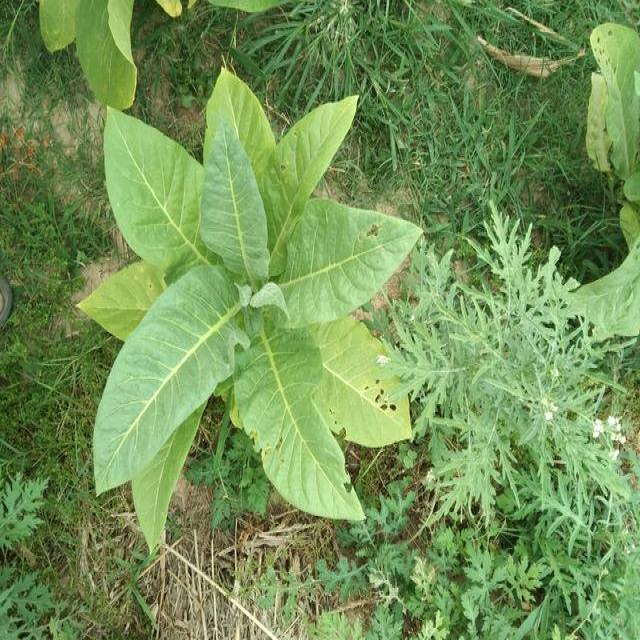crop: (78, 57, 421, 556)
